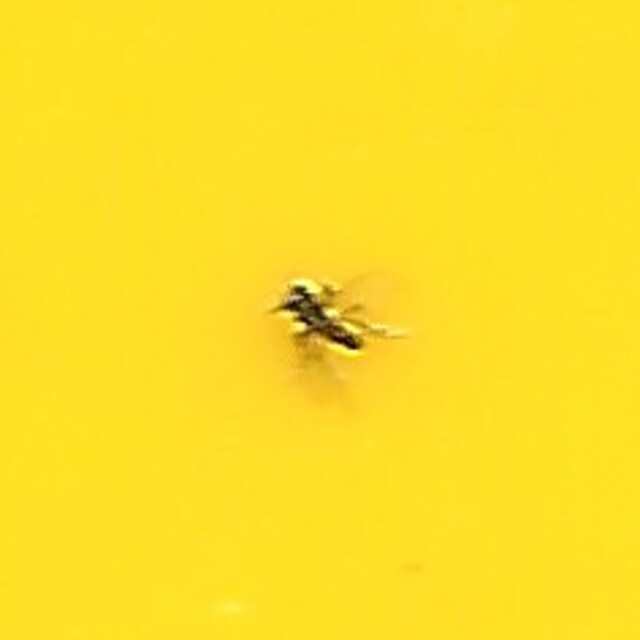Brachycera: (271, 269, 369, 371)
